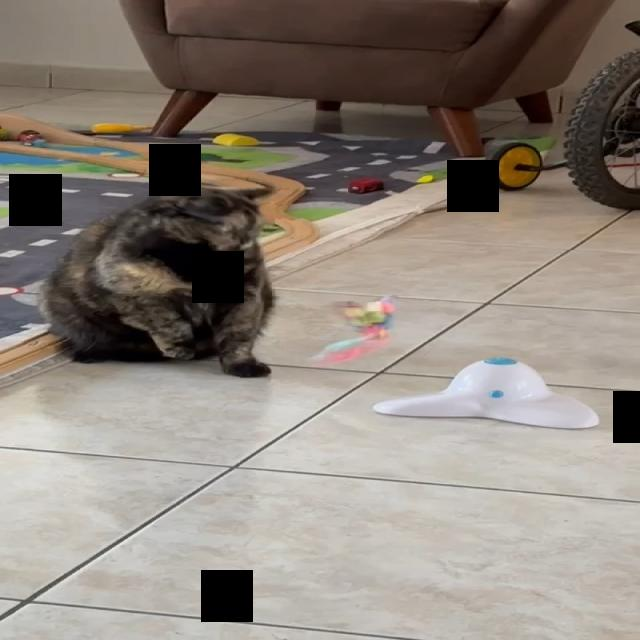authorized: (36, 183, 276, 378)
